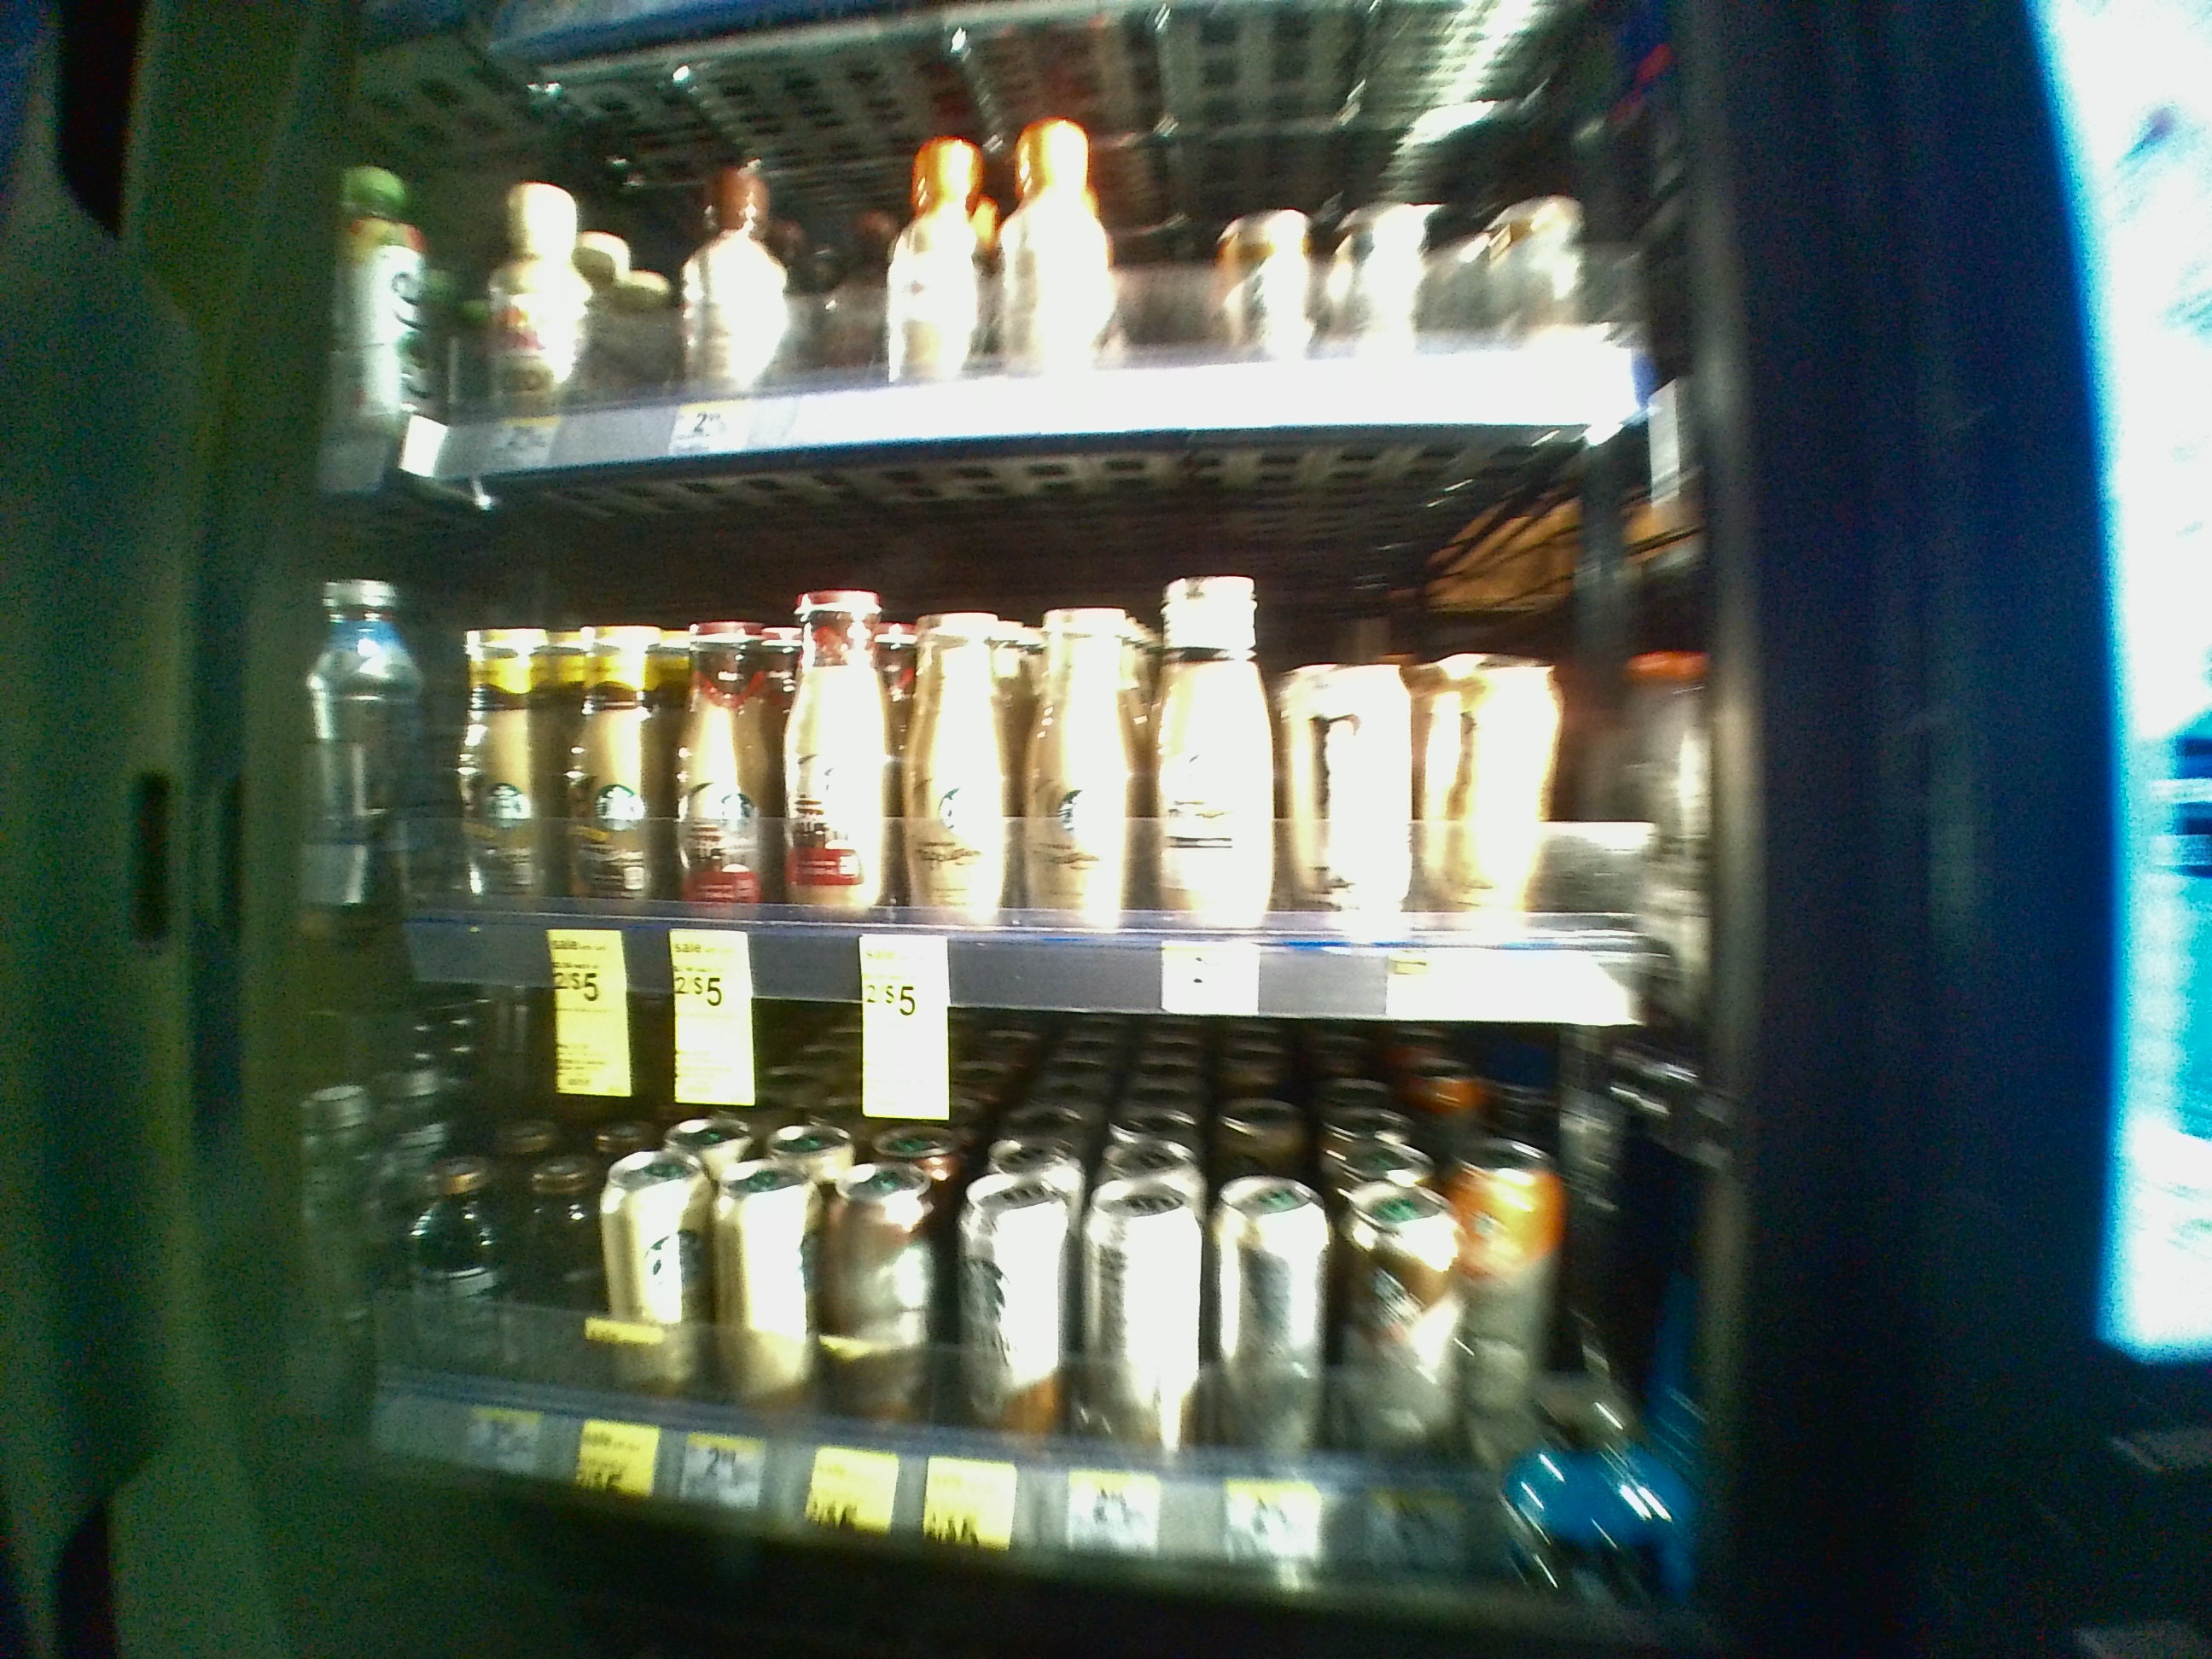shelf: (287, 992, 1777, 1617), (307, 453, 1754, 1028)
